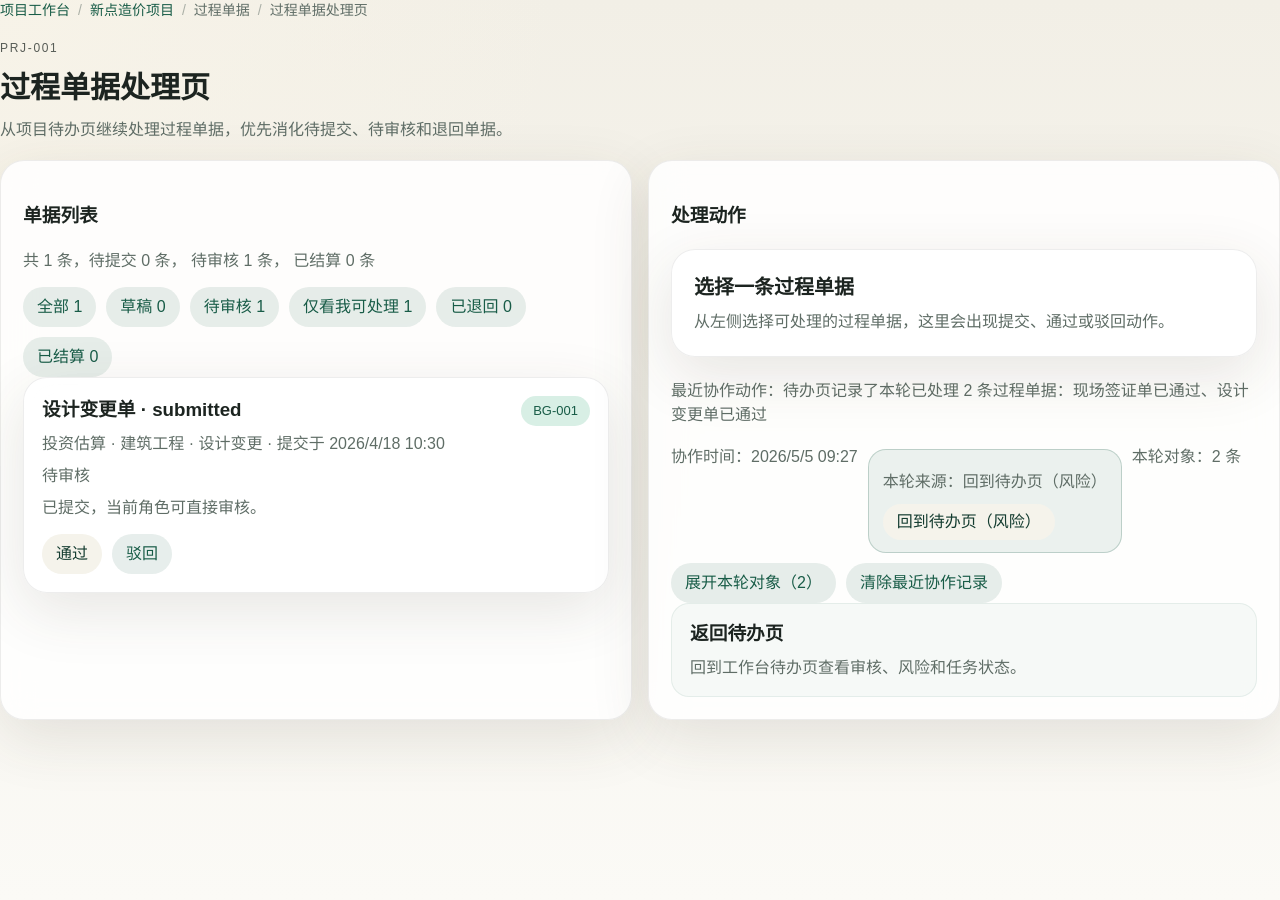
Test: ProjectProcessDocumentsPage › expands batch objects from recent collaboration summary
Expected: the text "最近协作动作：待办页记录了本轮已处理 2 条过程单据：现场签证单已通过、设计变更单已通过" is shown, left=671, top=378, right=1257, bottom=426
Expected: the text "本轮对象：2 条" is shown, left=1132, top=448, right=1241, bottom=464
Click the button "展开本轮对象（2）" at (753, 582), box left=671, top=562, right=836, bottom=602
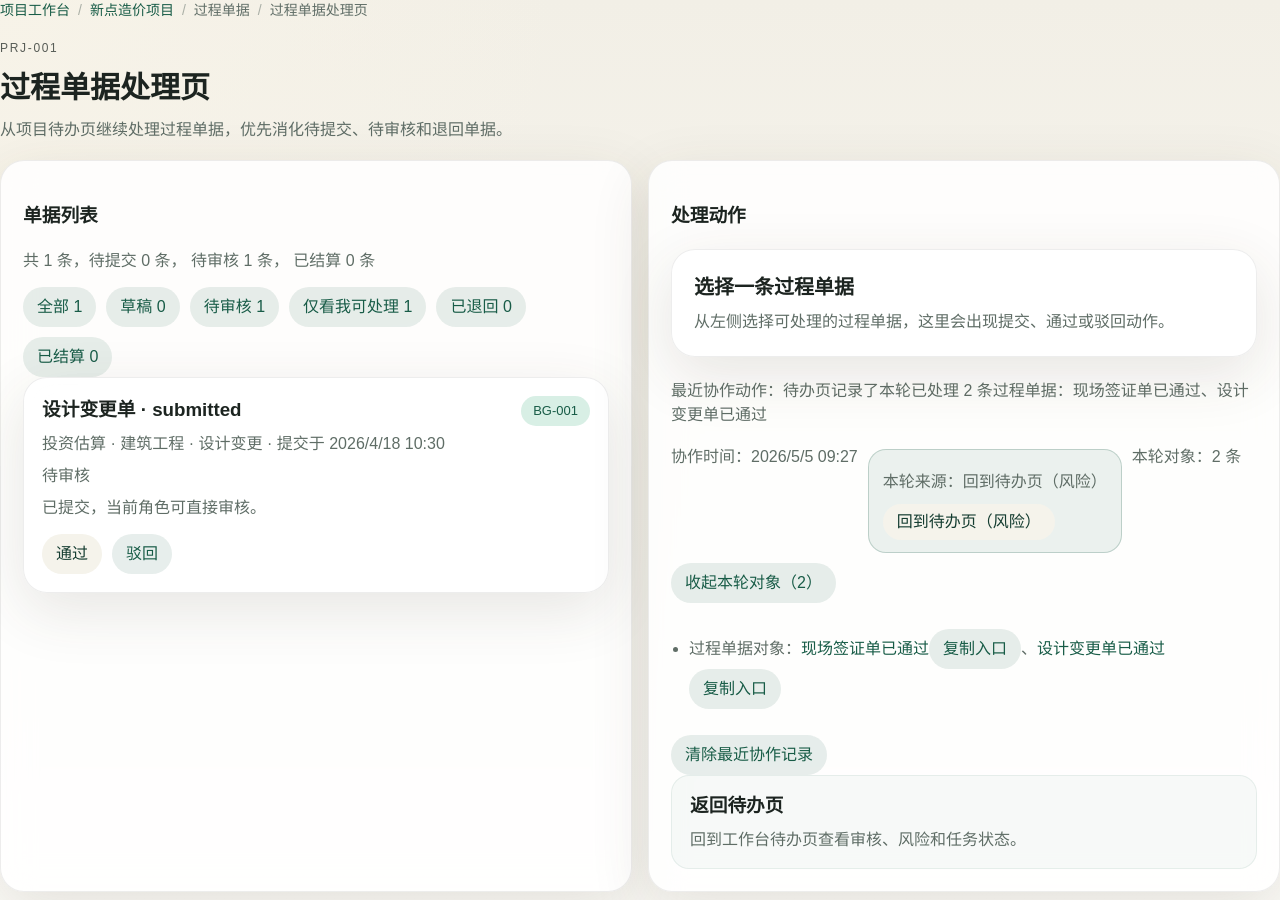
Now the text "过程单据对象：" is shown, box left=689, top=640, right=801, bottom=656
